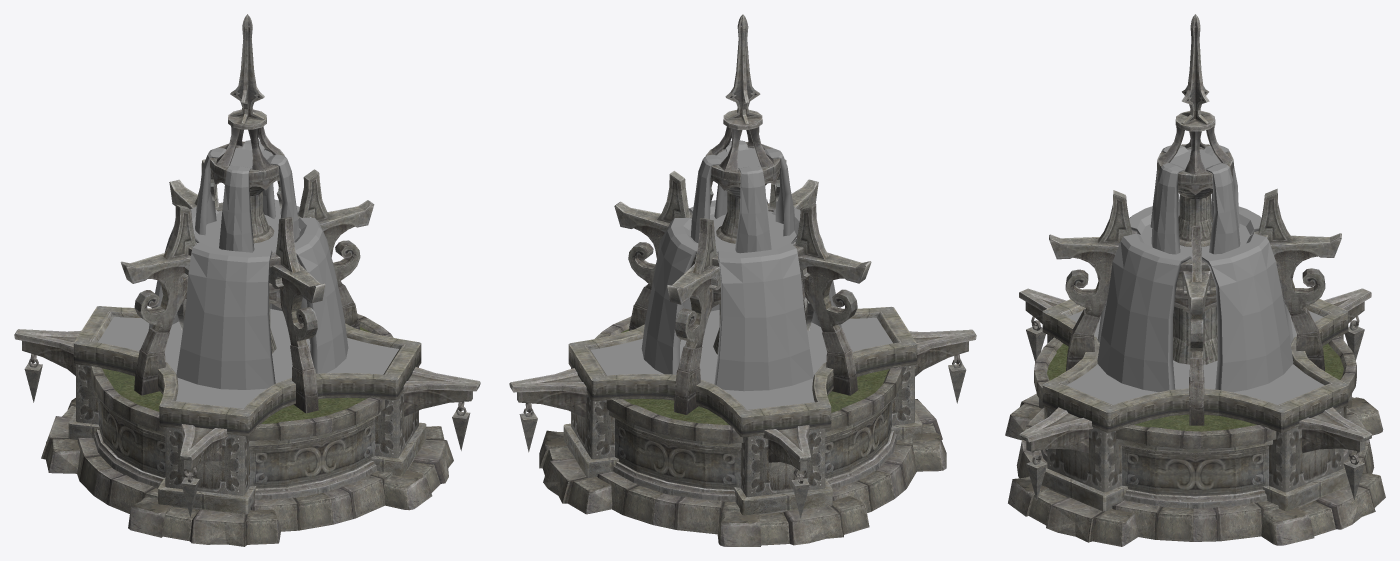
File: bg_lut_lucastle_fountain01a_sm_msj.FBX
3 views of the same model, side by side, from view 1: azimuth 30°, elevation 25°; view 2: azimuth 150°, elevation 25°; view 3: azimuth 270°, elevation 25° (orthographic).
Parts seen in each view (by area): view 1: bg_lut_lucastle_fountain01a_sm_msj; view 2: bg_lut_lucastle_fountain01a_sm_msj; view 3: bg_lut_lucastle_fountain01a_sm_msj.
Part boxes in pixels (x1,y1,x2,y2): bg_lut_lucastle_fountain01a_sm_msj: (14,14,480,546); bg_lut_lucastle_fountain01a_sm_msj: (509,14,976,546); bg_lut_lucastle_fountain01a_sm_msj: (1005,14,1385,546).
Bounding box in the file's own units: 466 × 611 × 466.
